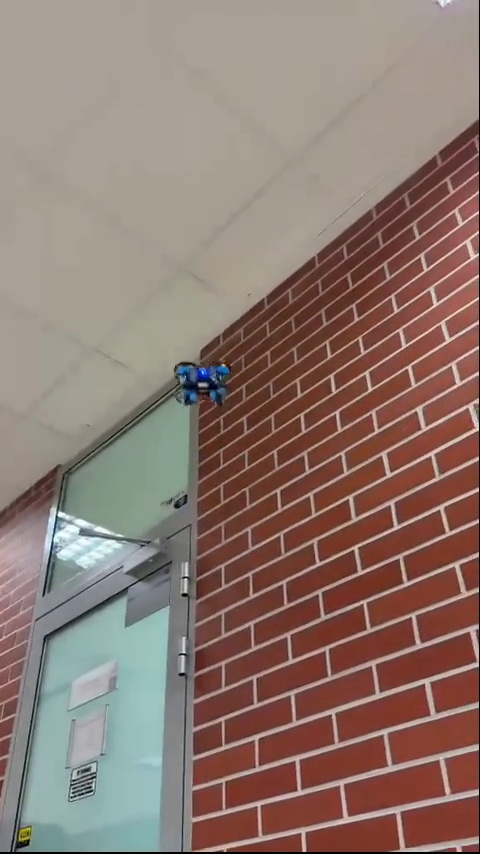drone: (171, 355, 234, 408)
